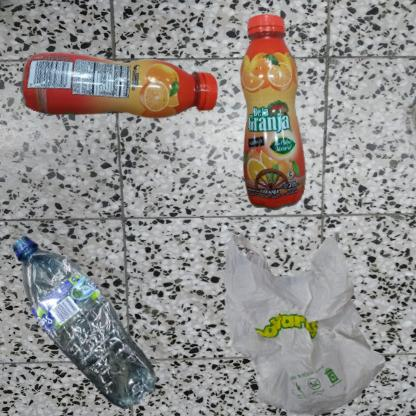bolsa: (213, 213, 401, 416)
botella: (10, 10, 272, 202), (10, 213, 179, 416), (213, 10, 349, 239)
